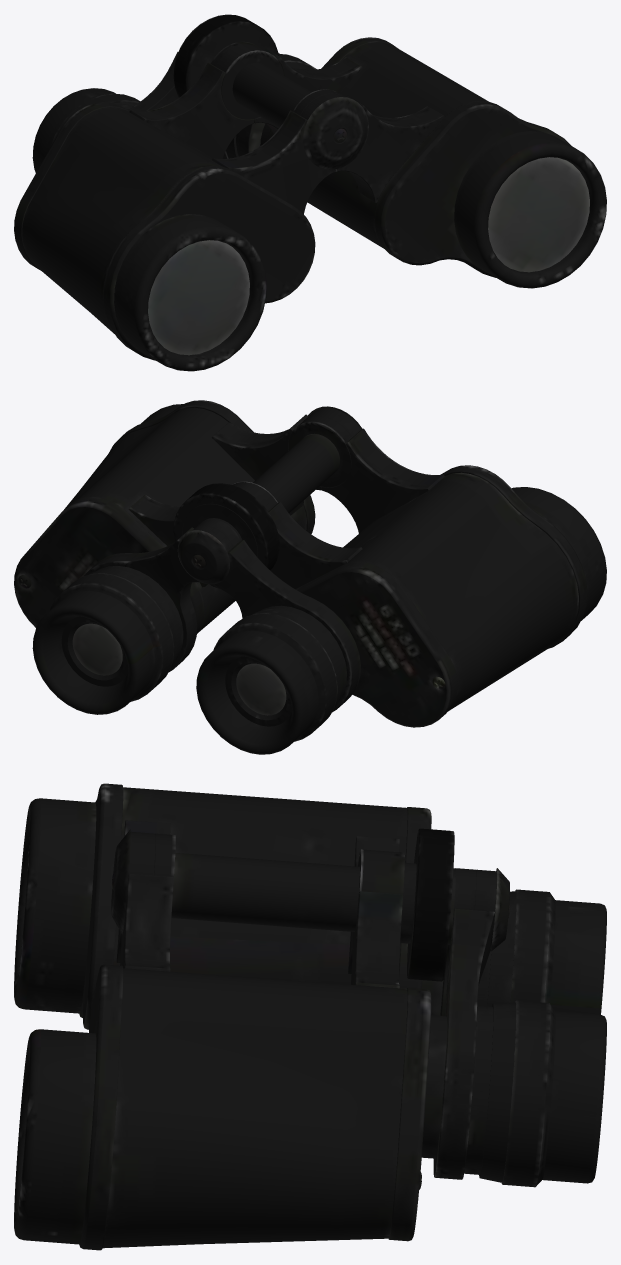
File: binoculars.glb
3 renders of one model, top to bottom at view 1: azimuth 30°, elevation 25°; view 2: azimuth 150°, elevation 25°; view 3: azimuth 270°, elevation 25°, orthographic. The views are drawn at different scales.
Parts seen in each view (by area): view 1: binoculars_left; view 2: binoculars_left; view 3: binoculars_left.
Part boxes in pixels (box(x1,y1,x2,y2)): binoculars_left: box(14, 14, 606, 371); binoculars_left: box(14, 400, 606, 754); binoculars_left: box(14, 783, 606, 1250).
Size of the model in its own units: 0.1523 by 0.0637 by 0.1177.
2 materials, 2 textured.
